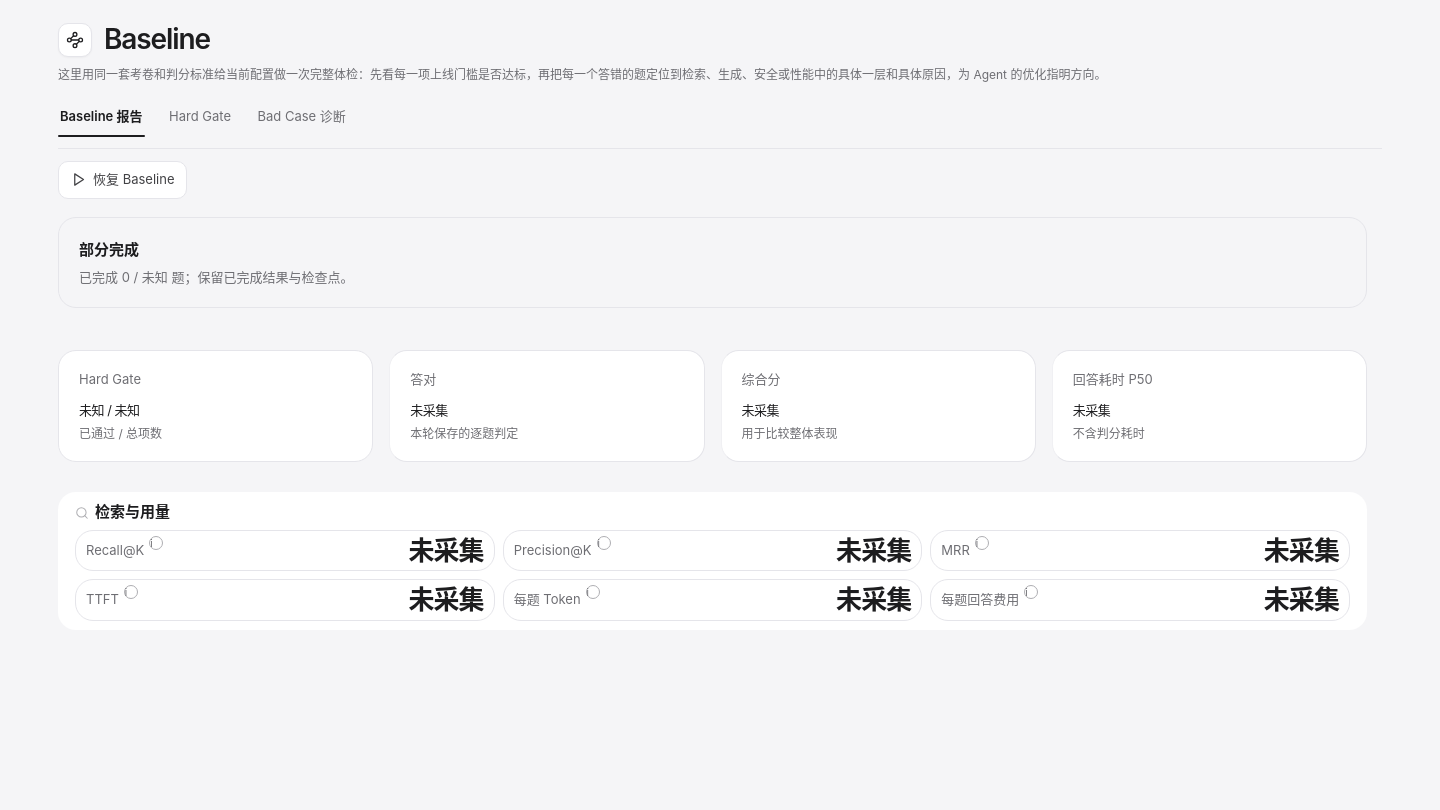
Test case: confirms before any Baseline start request (partial)
The image size is (1440, 810).
Later steps or results of the test are not shown.
Step 1. Click the button "恢复 Baseline" → (123, 180), box [58,161,188,199]
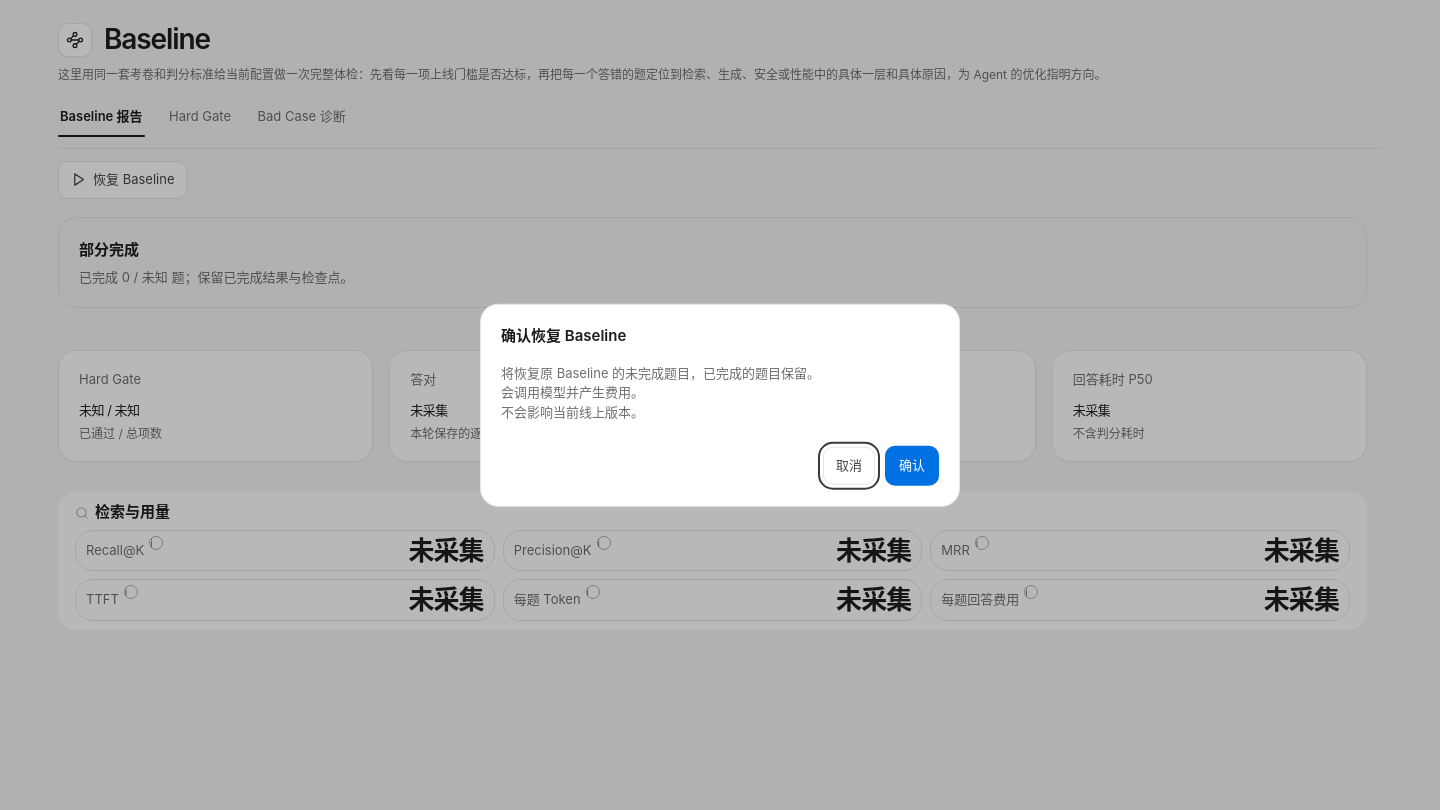
Expected: the dialog with class "confirm-dialog" is shown, [480,304,960,506]
Expected: the button "取消" is shown
Step 2. Click the button "取消" → (849, 466), box [823,447,875,484]
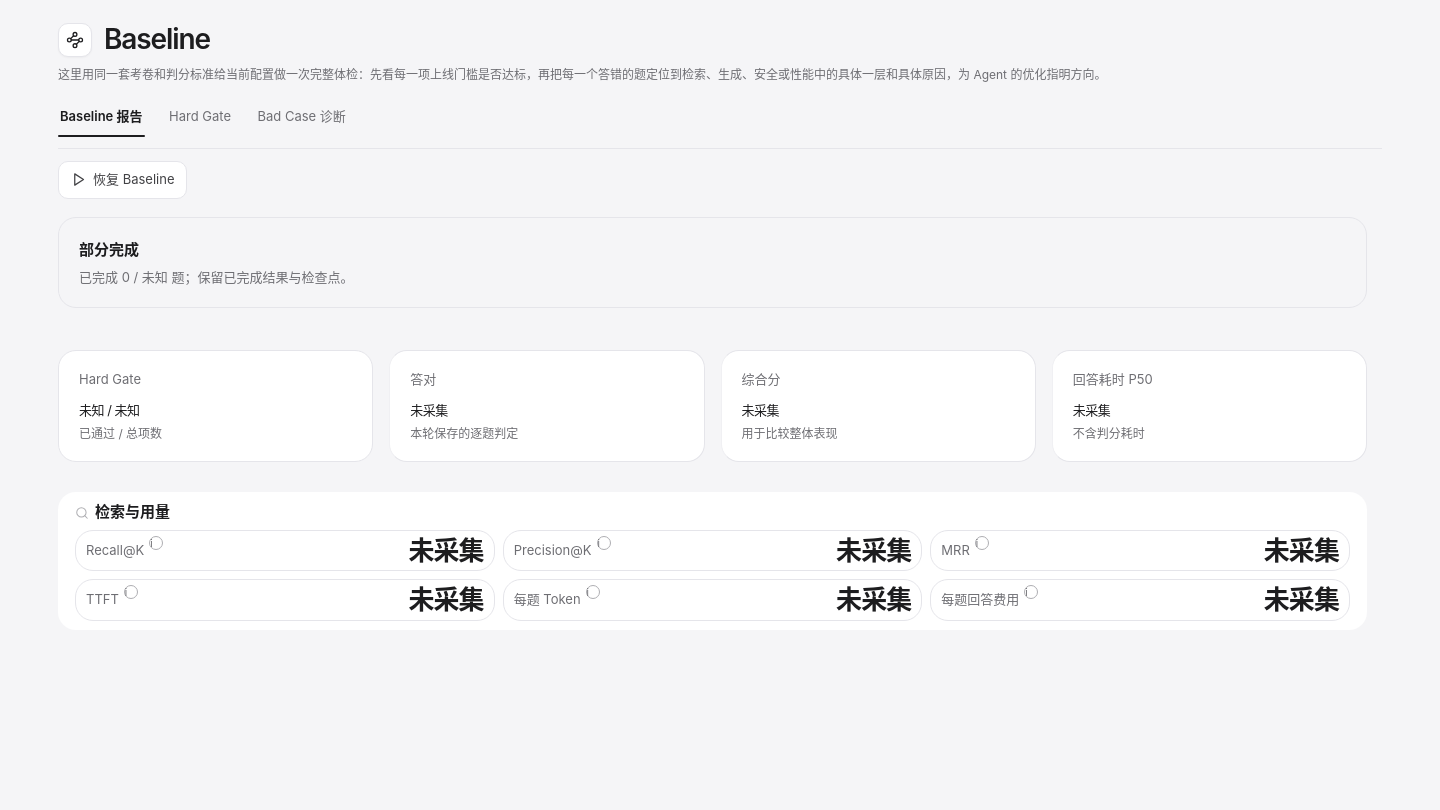
Expected: the dialog with class "confirm-dialog" is gone
Step 3. Click the button "恢复 Baseline" → (123, 180), box [58,161,188,199]
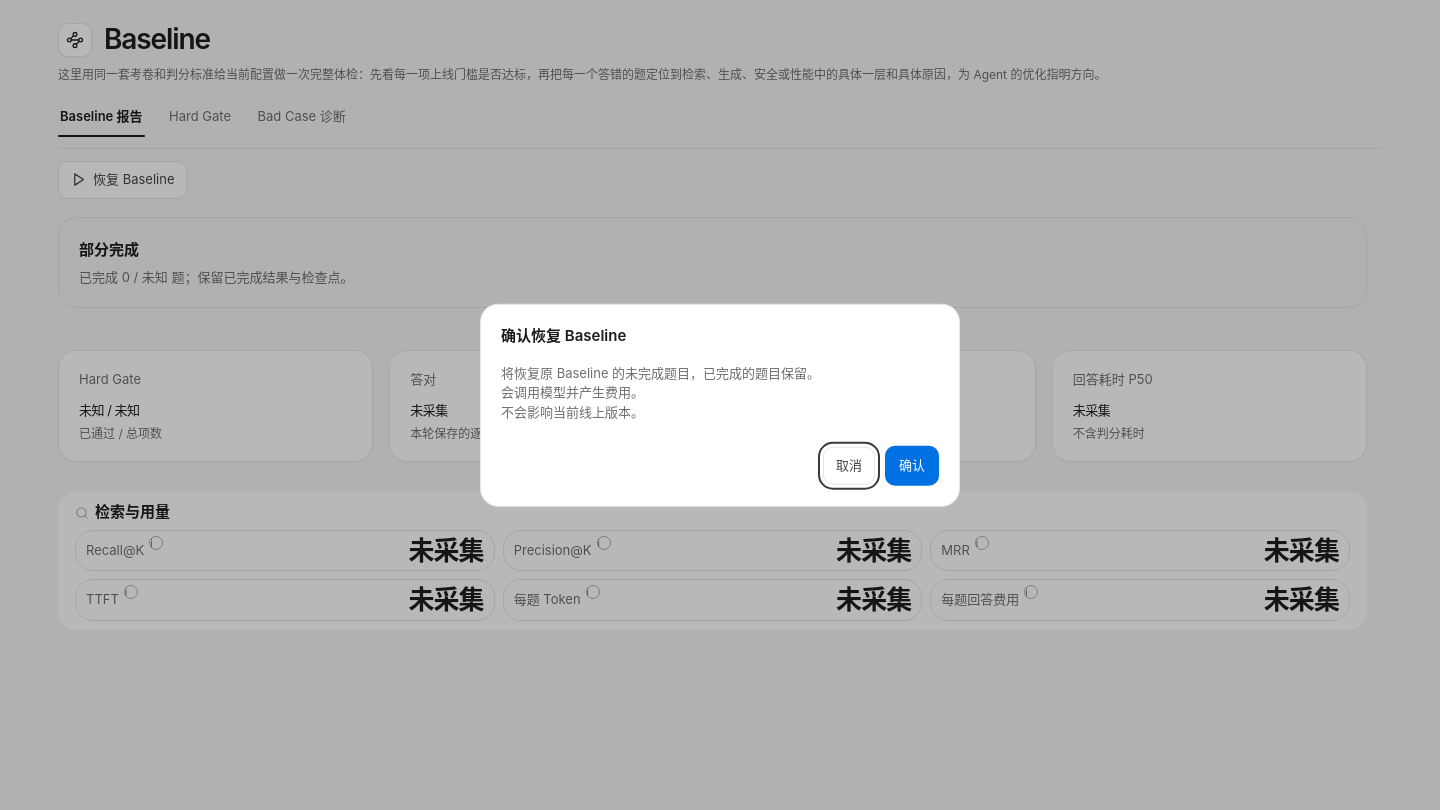
Expected: the dialog with class "confirm-dialog" shows "会调用模型并产生费用", [501,384,644,400]
Expected: the dialog with class "confirm-dialog" shows "不会影响当前线上版本", [501,403,644,419]
Expected: the button "确认" is shown, [885,446,939,485]
